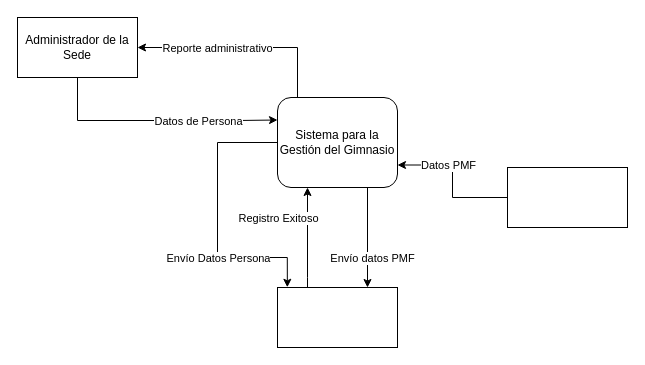
Some shapes in this 645 by 365 pixel diagram are drawn without their labels. The shapes that lost their labels are listed below. From the top down, each one's centre as x and y in pixels, then its label:
the point at 567,197: Entrenador
the point at 337,317: Bases de Datos
